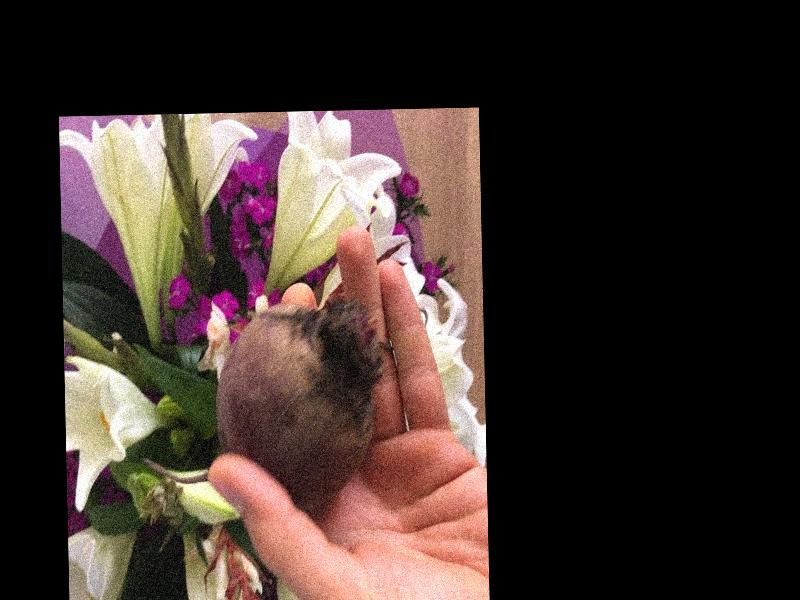Beet: (137, 297, 379, 510)
